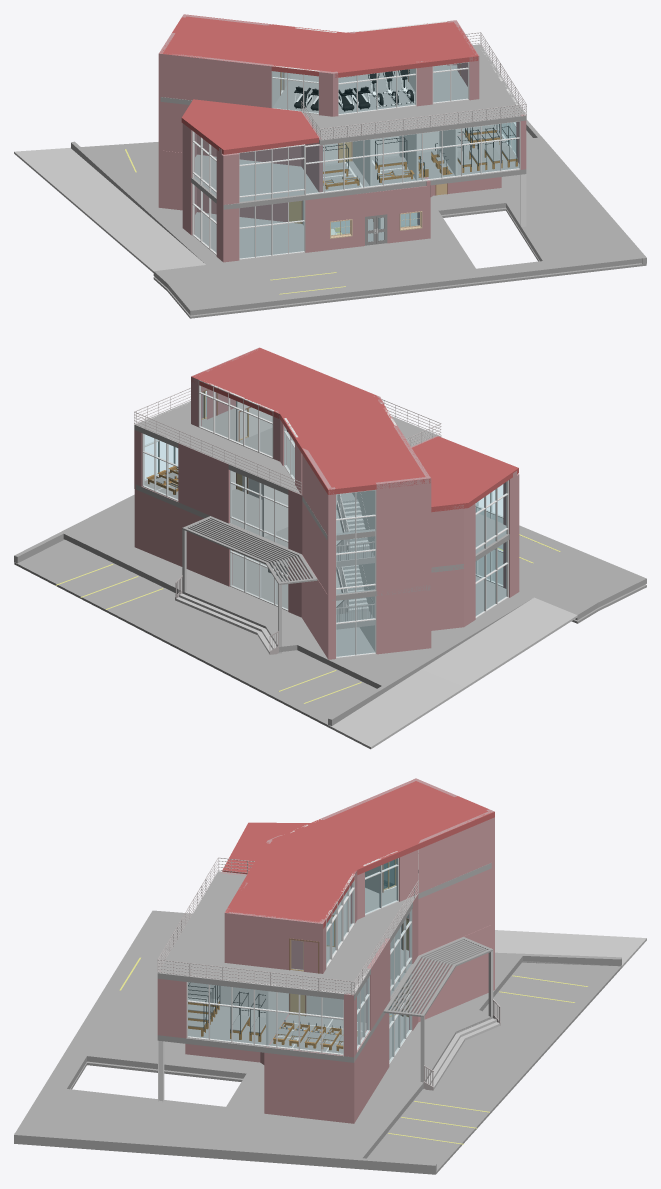
File: wellness_center.glb
3 renders of one model, top to bottom at view 1: azimuth 30°, elevation 25°; view 2: azimuth 150°, elevation 25°; view 3: azimuth 270°, elevation 25°, orthographic. The views are drawn at different scales.
Visible parts, largest first — view 1: 3zbXr_lBv5jgOEo802_LGZ, 15b09kJ7D9nPemCyFAch1l, 1ibt9HNSn1ROP2f$W158Z9, 1a4rX7oO92KvTbFQs2wfqs, 2BV8ty4rH4pOWhxXNZufdA, 3QwqaXhbD8MAJGnCFPl5C2, 3VjgQ5p_jBx9FCeJ8n44xU, 2lrUU8Tqz92AICLQu1TLNx, 0ZRQUHwuv8SOaxY18jH6Mu, 0HG2A49bzDARlPHy2ZDHZ9, 0B1crjb4D8q9w$WfMlF5ud, 15b09kJ7D9nPemCyFAchF6 (+17 smaller); view 2: 3zbXr_lBv5jgOEo802_LGZ, 0ZRQUHwuv8SOaxY18jH6Mu, 15b09kJ7D9nPemCyFAch1l, 1a4rX7oO92KvTbFQs2wfqs, 0HG2A49bzDARlPHy2ZDHwJ, 1ibt9HNSn1ROP2f$W158Z9, 3VjgQ5p_jBx9FCeJ8n44xU, 0PfeWE7Aj7GBHCsLa672r6, 09HlCCXBH8yBUKP68fHDFE, 2BV8ty4rH4pOWhxXNZufdA, 0IUrb2HMzB$vQgKkoaZA1c, 0HG2A49bzDARlPHy2ZDHzA (+17 smaller); view 3: 3zbXr_lBv5jgOEo802_LGZ, 0ZRQUHwuv8SOaxY18jH6Mu, 15b09kJ7D9nPemCyFAch1l, 1ibt9HNSn1ROP2f$W158Z9, 1oxXEo2on7NgTjEAMLj7tw, 0HG2A49bzDARlPHy2ZDHpc, 15b09kJ7D9nPemCyFAchNz, 2BV8ty4rH4pOWhxXNZufdA, 0IUrb2HMzB$vQgKkoaZA1c, 1a4rX7oO92KvTbFQs2wfqs, 15b09kJ7D9nPemCyFAchF6, 1KESbtZtX7lvp5W1UzgNq1 (+13 smaller).
Part boxes in pixels (x1,y1,x2,y2): 3zbXr_lBv5jgOEo802_LGZ: (111,137,646,315); 15b09kJ7D9nPemCyFAch1l: (160,14,478,77); 1ibt9HNSn1ROP2f$W158Z9: (160,44,526,145); 1a4rX7oO92KvTbFQs2wfqs: (14,147,205,272); 2BV8ty4rH4pOWhxXNZufdA: (191,131,526,209); 3QwqaXhbD8MAJGnCFPl5C2: (162,54,272,161); 3VjgQ5p_jBx9FCeJ8n44xU: (181,99,318,154); 2lrUU8Tqz92AICLQu1TLNx: (305,186,426,252); 0ZRQUHwuv8SOaxY18jH6Mu: (81,122,646,318); 0HG2A49bzDARlPHy2ZDHZ9: (162,150,287,221); 0B1crjb4D8q9w$WfMlF5ud: (221,153,239,262); 15b09kJ7D9nPemCyFAchF6: (301,32,526,140); 3zbXr_lBv5jgOEo802_LGZ: (61,495,646,688); 0ZRQUHwuv8SOaxY18jH6Mu: (14,539,646,726); 15b09kJ7D9nPemCyFAch1l: (191,348,430,494); 1a4rX7oO92KvTbFQs2wfqs: (328,597,577,749); 0HG2A49bzDARlPHy2ZDHwJ: (376,476,431,654); 1ibt9HNSn1ROP2f$W158Z9: (134,394,441,540); 3VjgQ5p_jBx9FCeJ8n44xU: (412,436,518,512); 0PfeWE7Aj7GBHCsLa672r6: (137,486,232,586); 09HlCCXBH8yBUKP68fHDFE: (431,505,467,630); 2BV8ty4rH4pOWhxXNZufdA: (134,470,509,600); 0IUrb2HMzB$vQgKkoaZA1c: (182,516,317,584); 0HG2A49bzDARlPHy2ZDHzA: (178,443,229,523); 3zbXr_lBv5jgOEo802_LGZ: (14,910,522,1165); 0ZRQUHwuv8SOaxY18jH6Mu: (14,962,621,1174); 15b09kJ7D9nPemCyFAch1l: (225,780,494,928); 1ibt9HNSn1ROP2f$W158Z9: (157,863,491,1000); 1oxXEo2on7NgTjEAMLj7tw: (418,811,491,955); 0HG2A49bzDARlPHy2ZDHpc: (264,1046,355,1123); 15b09kJ7D9nPemCyFAchNz: (228,912,319,973); 2BV8ty4rH4pOWhxXNZufdA: (157,949,417,1062); 0IUrb2HMzB$vQgKkoaZA1c: (383,937,492,1016); 1a4rX7oO92KvTbFQs2wfqs: (495,930,646,967); 15b09kJ7D9nPemCyFAchF6: (157,857,418,994); 1KESbtZtX7lvp5W1UzgNq1: (418,925,491,1022).
Size of what is drawn, in the model's own units: 36.2 by 12.4 by 37.92.
